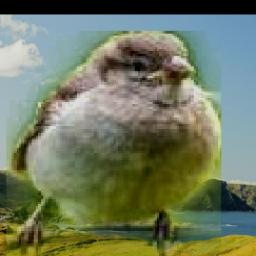Sparrow: (6, 31, 221, 256)
